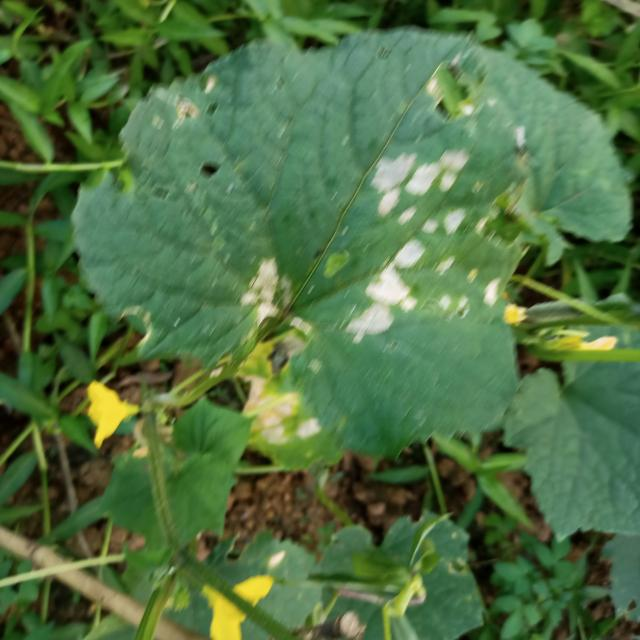disease_cucumber: (341, 136, 494, 354), (234, 247, 306, 328)
